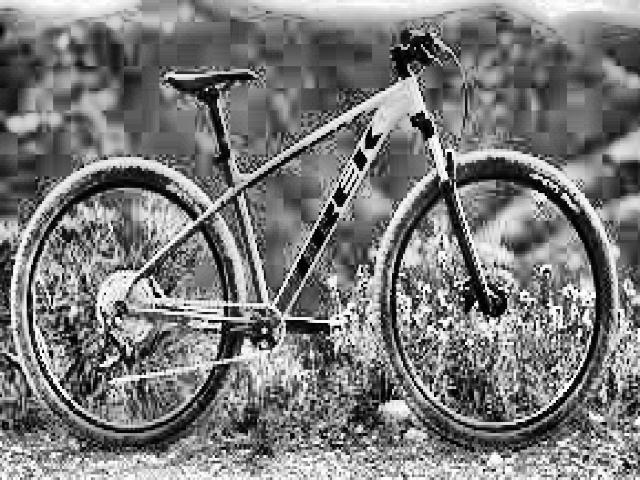cranks_set: (212, 304, 286, 356)
pedal: (188, 317, 222, 338), (324, 316, 348, 339)
rear_derailleur: (96, 304, 142, 374)
saddle: (161, 66, 258, 97)
wheel: (376, 147, 621, 446), (9, 159, 247, 449)
